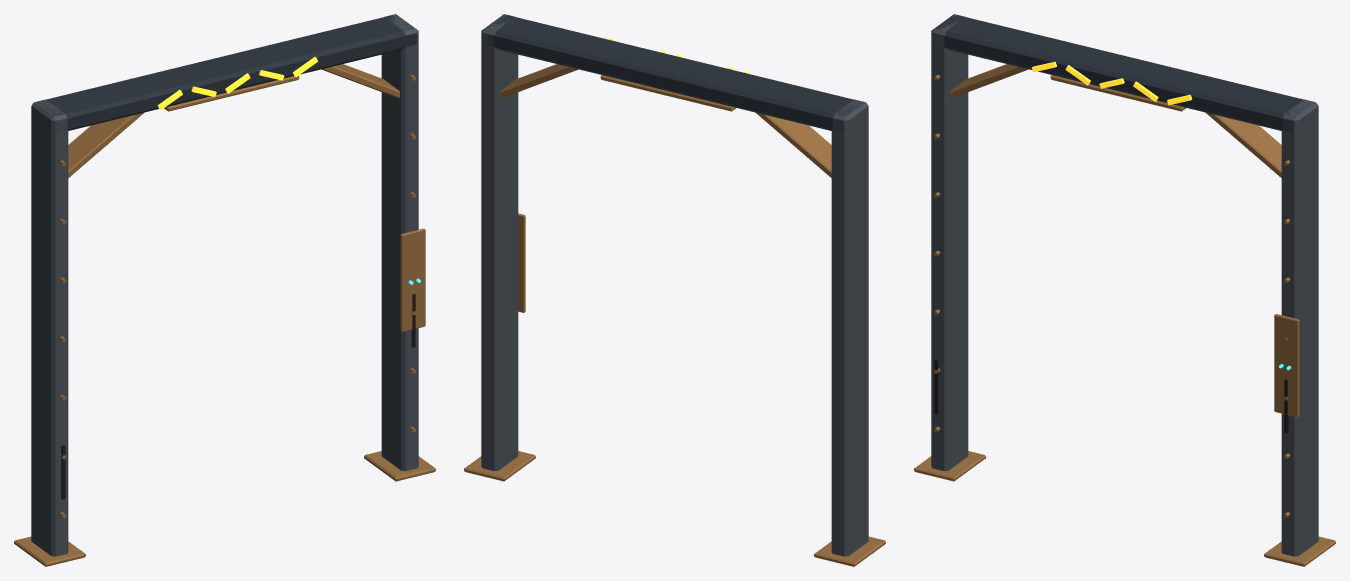
Rendered from runtime.glb.
3 renders of one model, left to right at view 1: azimuth 30°, elevation 25°; view 2: azimuth 150°, elevation 25°; view 3: azimuth 330°, elevation 25°, orthographic.
Visible parts, largest first — view 1: kinetic-tide-machine-frame-v06_plate_nocol, kinetic-tide-machine-frame-v06_steel_nocol, kinetic-tide-machine-frame-v06_bronze_nocol, kinetic-tide-machine-frame-v06_warningorange_nocol; view 2: kinetic-tide-machine-frame-v06_plate_nocol, kinetic-tide-machine-frame-v06_steel_nocol, kinetic-tide-machine-frame-v06_bronze_nocol; view 3: kinetic-tide-machine-frame-v06_plate_nocol, kinetic-tide-machine-frame-v06_steel_nocol, kinetic-tide-machine-frame-v06_bronze_nocol, kinetic-tide-machine-frame-v06_warningorange_nocol.
Part boxes in pixels (x1,y1,x2,y2): kinetic-tide-machine-frame-v06_plate_nocol: (31, 14, 418, 556); kinetic-tide-machine-frame-v06_steel_nocol: (31, 14, 416, 132); kinetic-tide-machine-frame-v06_bronze_nocol: (14, 64, 435, 566); kinetic-tide-machine-frame-v06_warningorange_nocol: (157, 57, 317, 109); kinetic-tide-machine-frame-v06_plate_nocol: (481, 14, 868, 556); kinetic-tide-machine-frame-v06_steel_nocol: (486, 14, 864, 132); kinetic-tide-machine-frame-v06_bronze_nocol: (464, 64, 885, 566); kinetic-tide-machine-frame-v06_plate_nocol: (931, 14, 1318, 556); kinetic-tide-machine-frame-v06_steel_nocol: (934, 15, 1313, 132); kinetic-tide-machine-frame-v06_bronze_nocol: (914, 64, 1335, 566); kinetic-tide-machine-frame-v06_warningorange_nocol: (1032, 61, 1192, 105).
Size of the model in its own units: 9.78 by 10.58 by 1.38.
